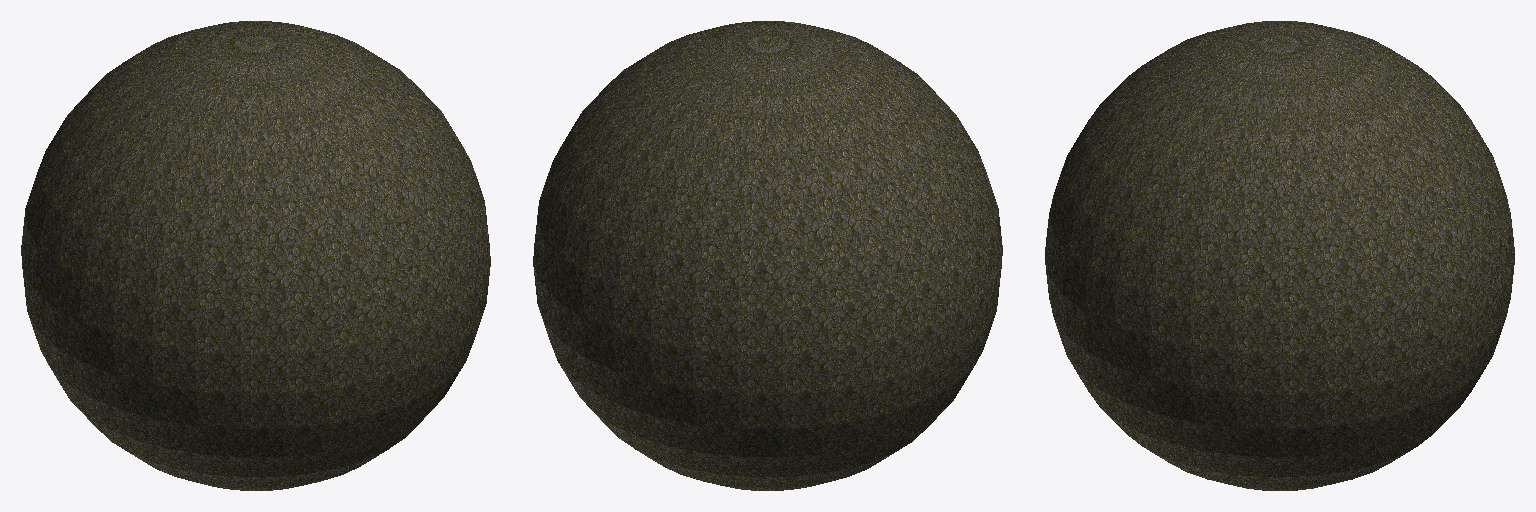
3 renders of one model, left to right at view 1: azimuth 30°, elevation 25°; view 2: azimuth 150°, elevation 25°; view 3: azimuth 270°, elevation 25°, orthographic.
Parts seen in each view (by area): view 1: Sphere; view 2: Sphere; view 3: Sphere.
Part boxes in pixels (left/top/right/bottom): Sphere: left=21, top=21, right=490, bottom=490; Sphere: left=533, top=21, right=1002, bottom=490; Sphere: left=1045, top=21, right=1514, bottom=490.
Size of the model in its own units: 2 by 2 by 2.
Materials: 1 (1 with a texture image).